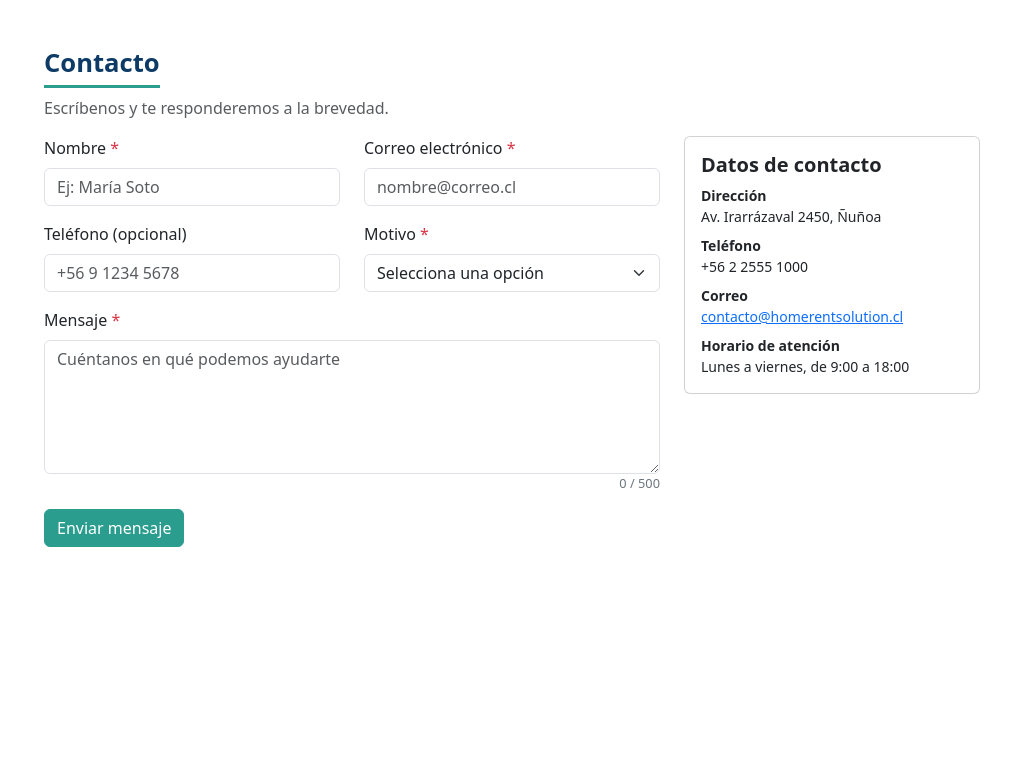
Test: Contacto › El teléfono es opcional, pero si se escribe se valida
This screenshot has width=1024, height=768.
Type "123" into the field labelled "Teléfono (opcional)". click: (192, 273)
box: [44,254,340,292]
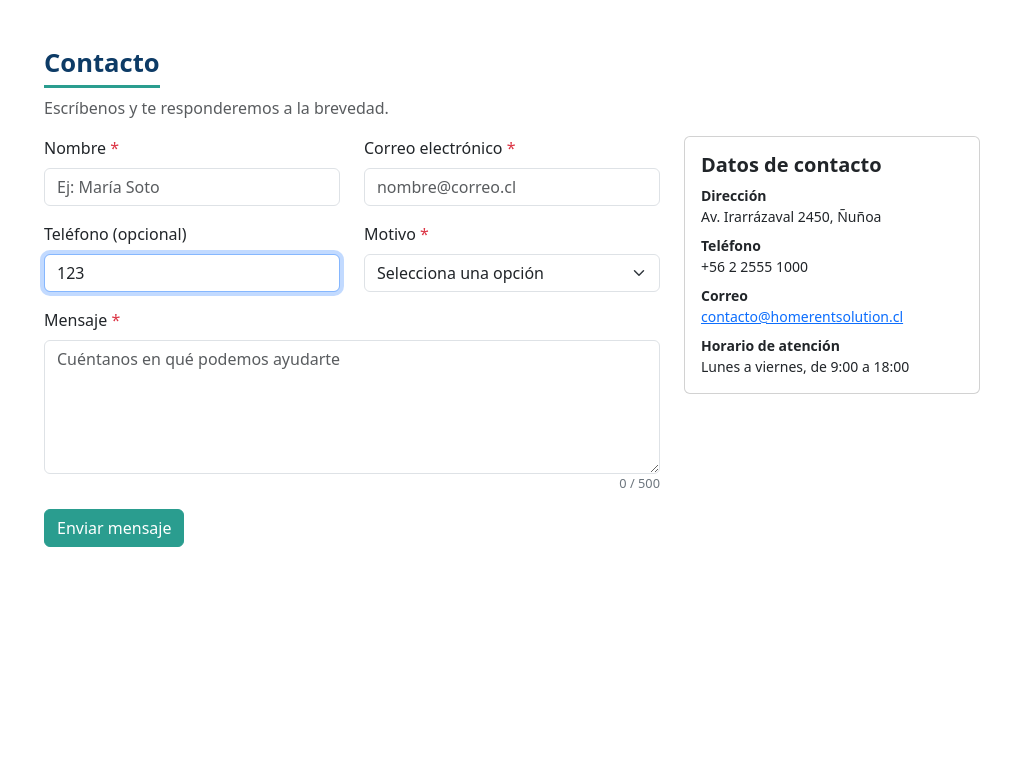
Click the button "Enviar mensaje". click: (114, 528)
box: [44,509,184,547]
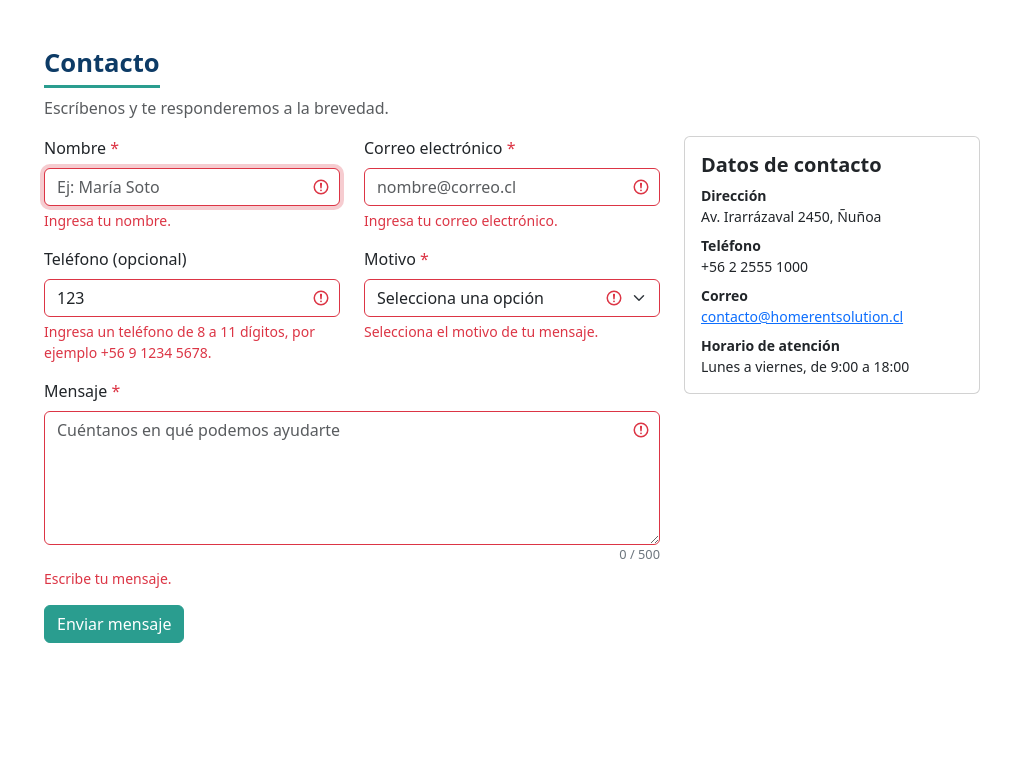
Result: the text "8 a 11 dígitos" is shown at [44,322,315,362]
